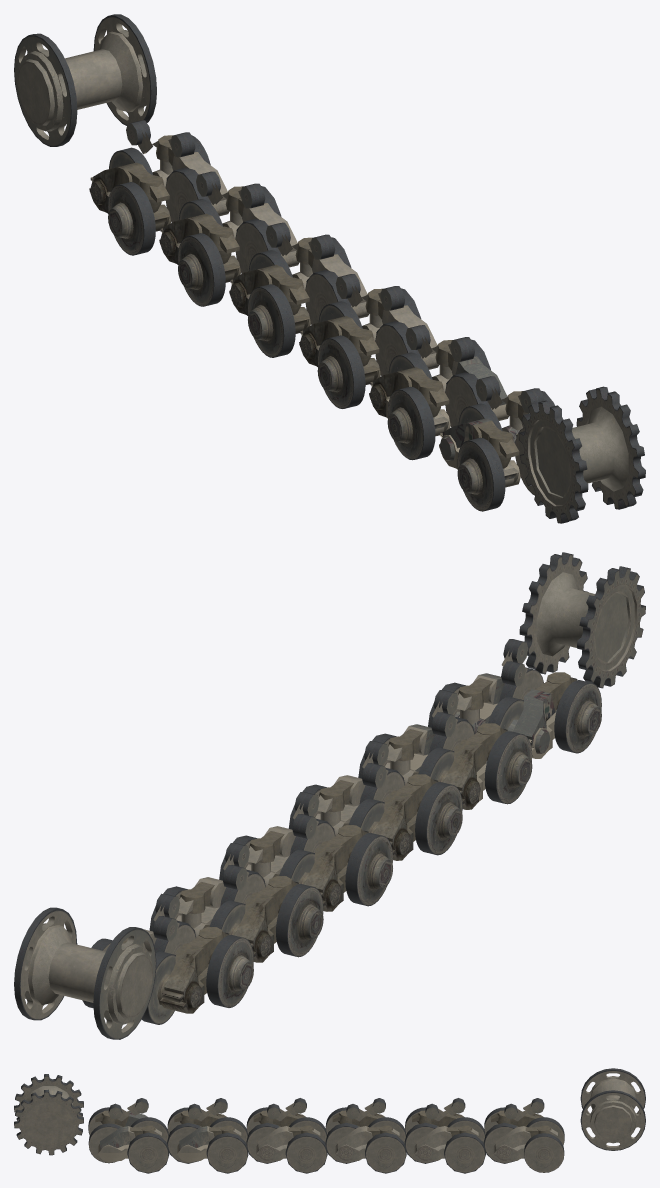
File: wheels_left.obj
3 views of the same model, one above another, from view 1: azimuth 30°, elevation 25°; view 2: azimuth 150°, elevation 25°; view 3: azimuth 270°, elevation 25° (orthographic). The views are drawn at different scales.
Parts seen in each view (by area): view 1: wheels_left; view 2: wheels_left; view 3: wheels_left.
Part boxes in pixels (x1,y1,x2,y2): wheels_left: [14, 14, 645, 523]; wheels_left: [14, 552, 645, 1039]; wheels_left: [14, 1068, 645, 1173].
Size of the model in its own units: 1.04 by 1.19 by 8.5.
Materials: 2 (2 with a texture image).
